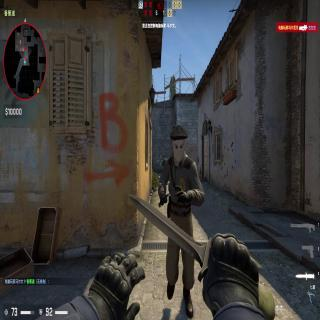T-Body: (158, 123, 205, 210)
T-Head: (170, 125, 187, 162)
